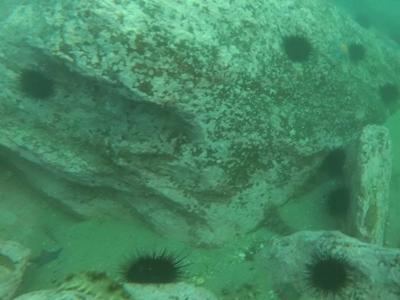holothurian: (55, 270, 137, 296)
urchin: (122, 247, 190, 287), (305, 255, 358, 298), (19, 65, 56, 97), (285, 34, 314, 62), (323, 144, 345, 178), (328, 190, 353, 219), (348, 43, 366, 63)
